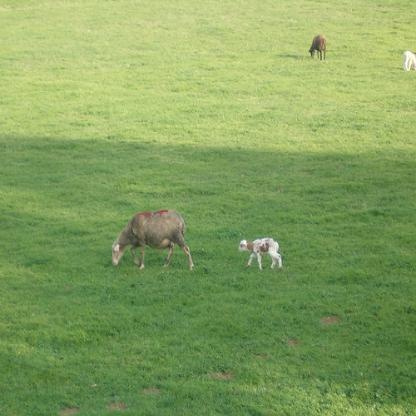sheep: (110, 209, 195, 275), (236, 235, 282, 271), (309, 31, 327, 61), (400, 48, 416, 74)
